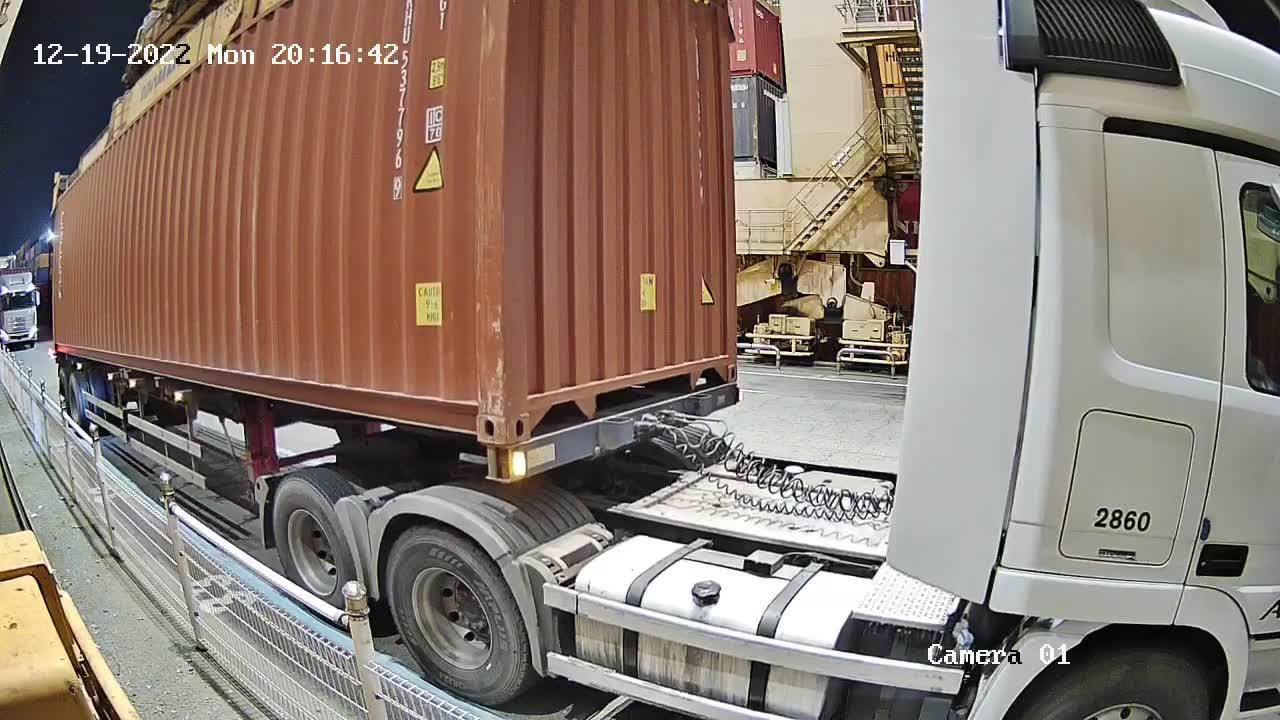Chassis: (481, 383, 739, 483)
Cone: (480, 445, 510, 478)
Hole_L: (504, 377, 553, 445)
Hole_R: (453, 378, 505, 444), (707, 345, 739, 386)
Tire: (387, 529, 522, 703), (272, 479, 353, 605)
